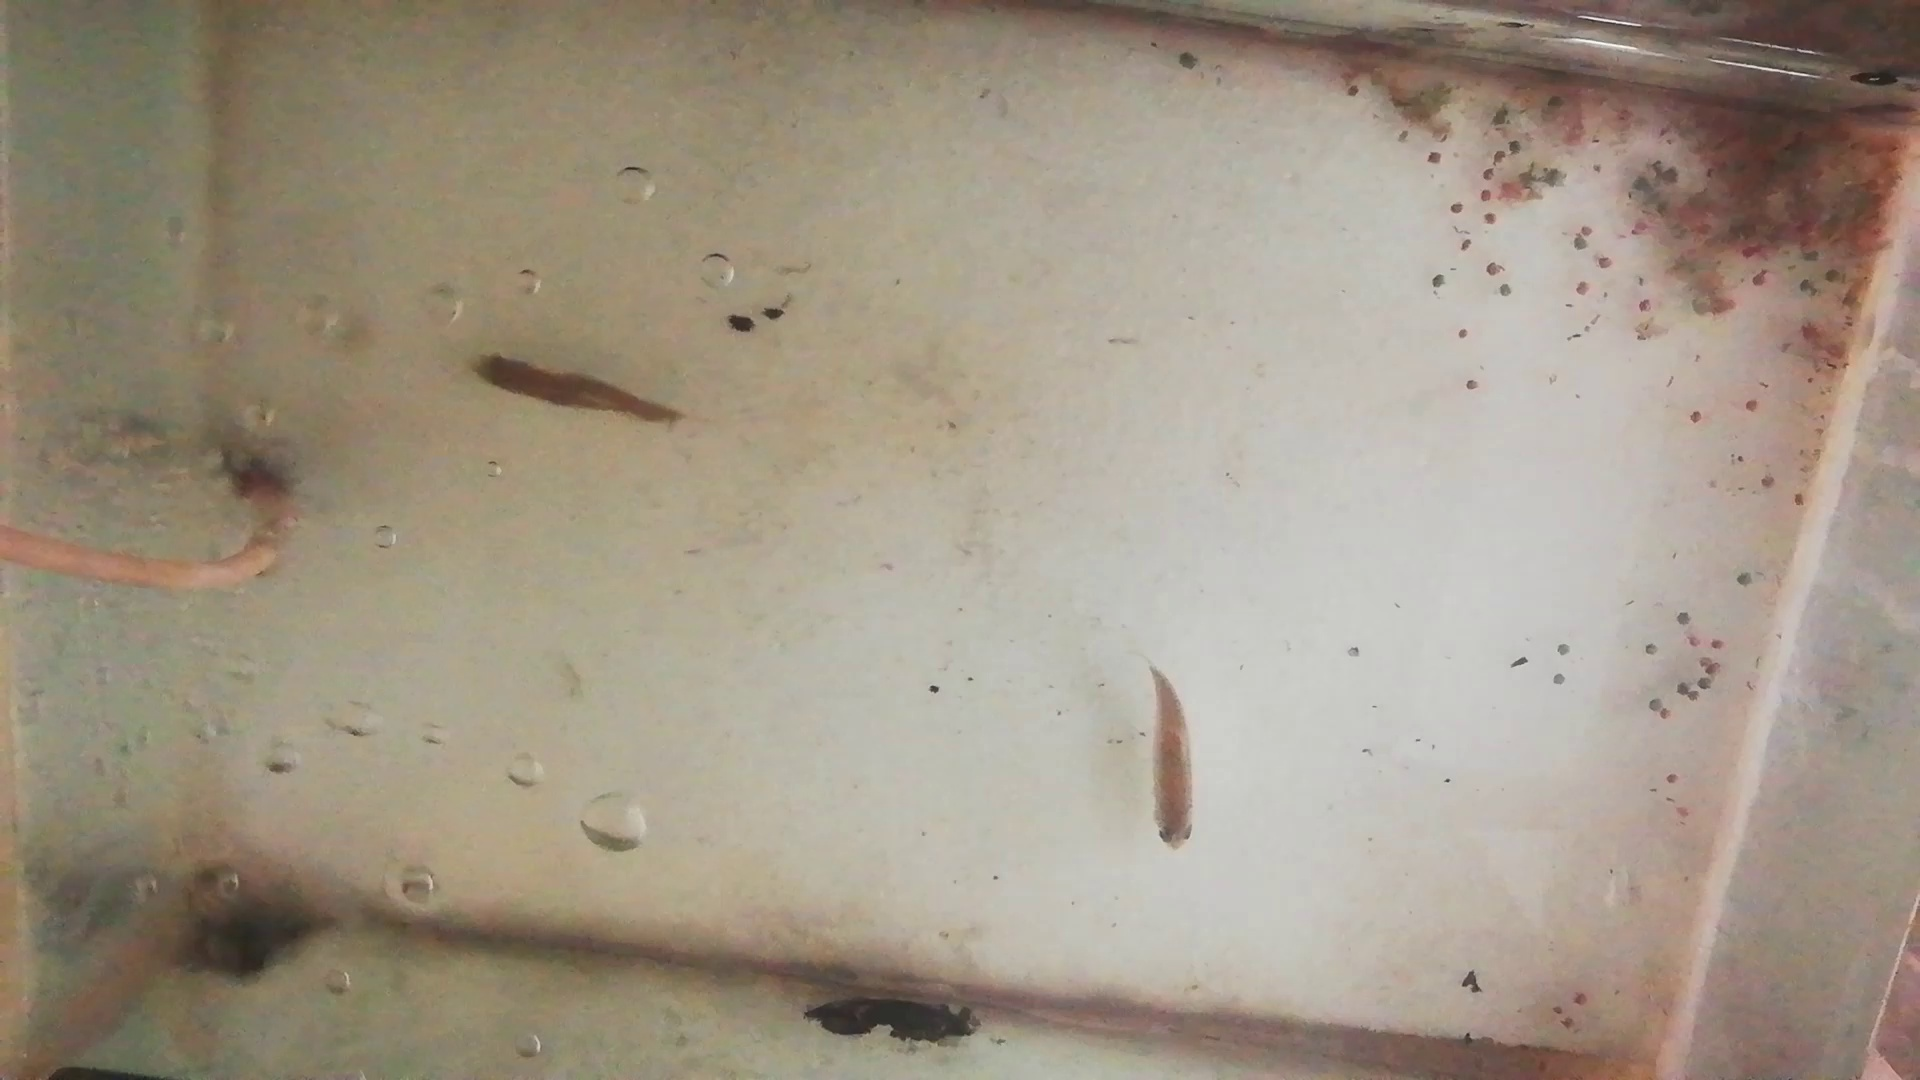fish: (467, 353, 683, 425), (1147, 665, 1199, 849)
